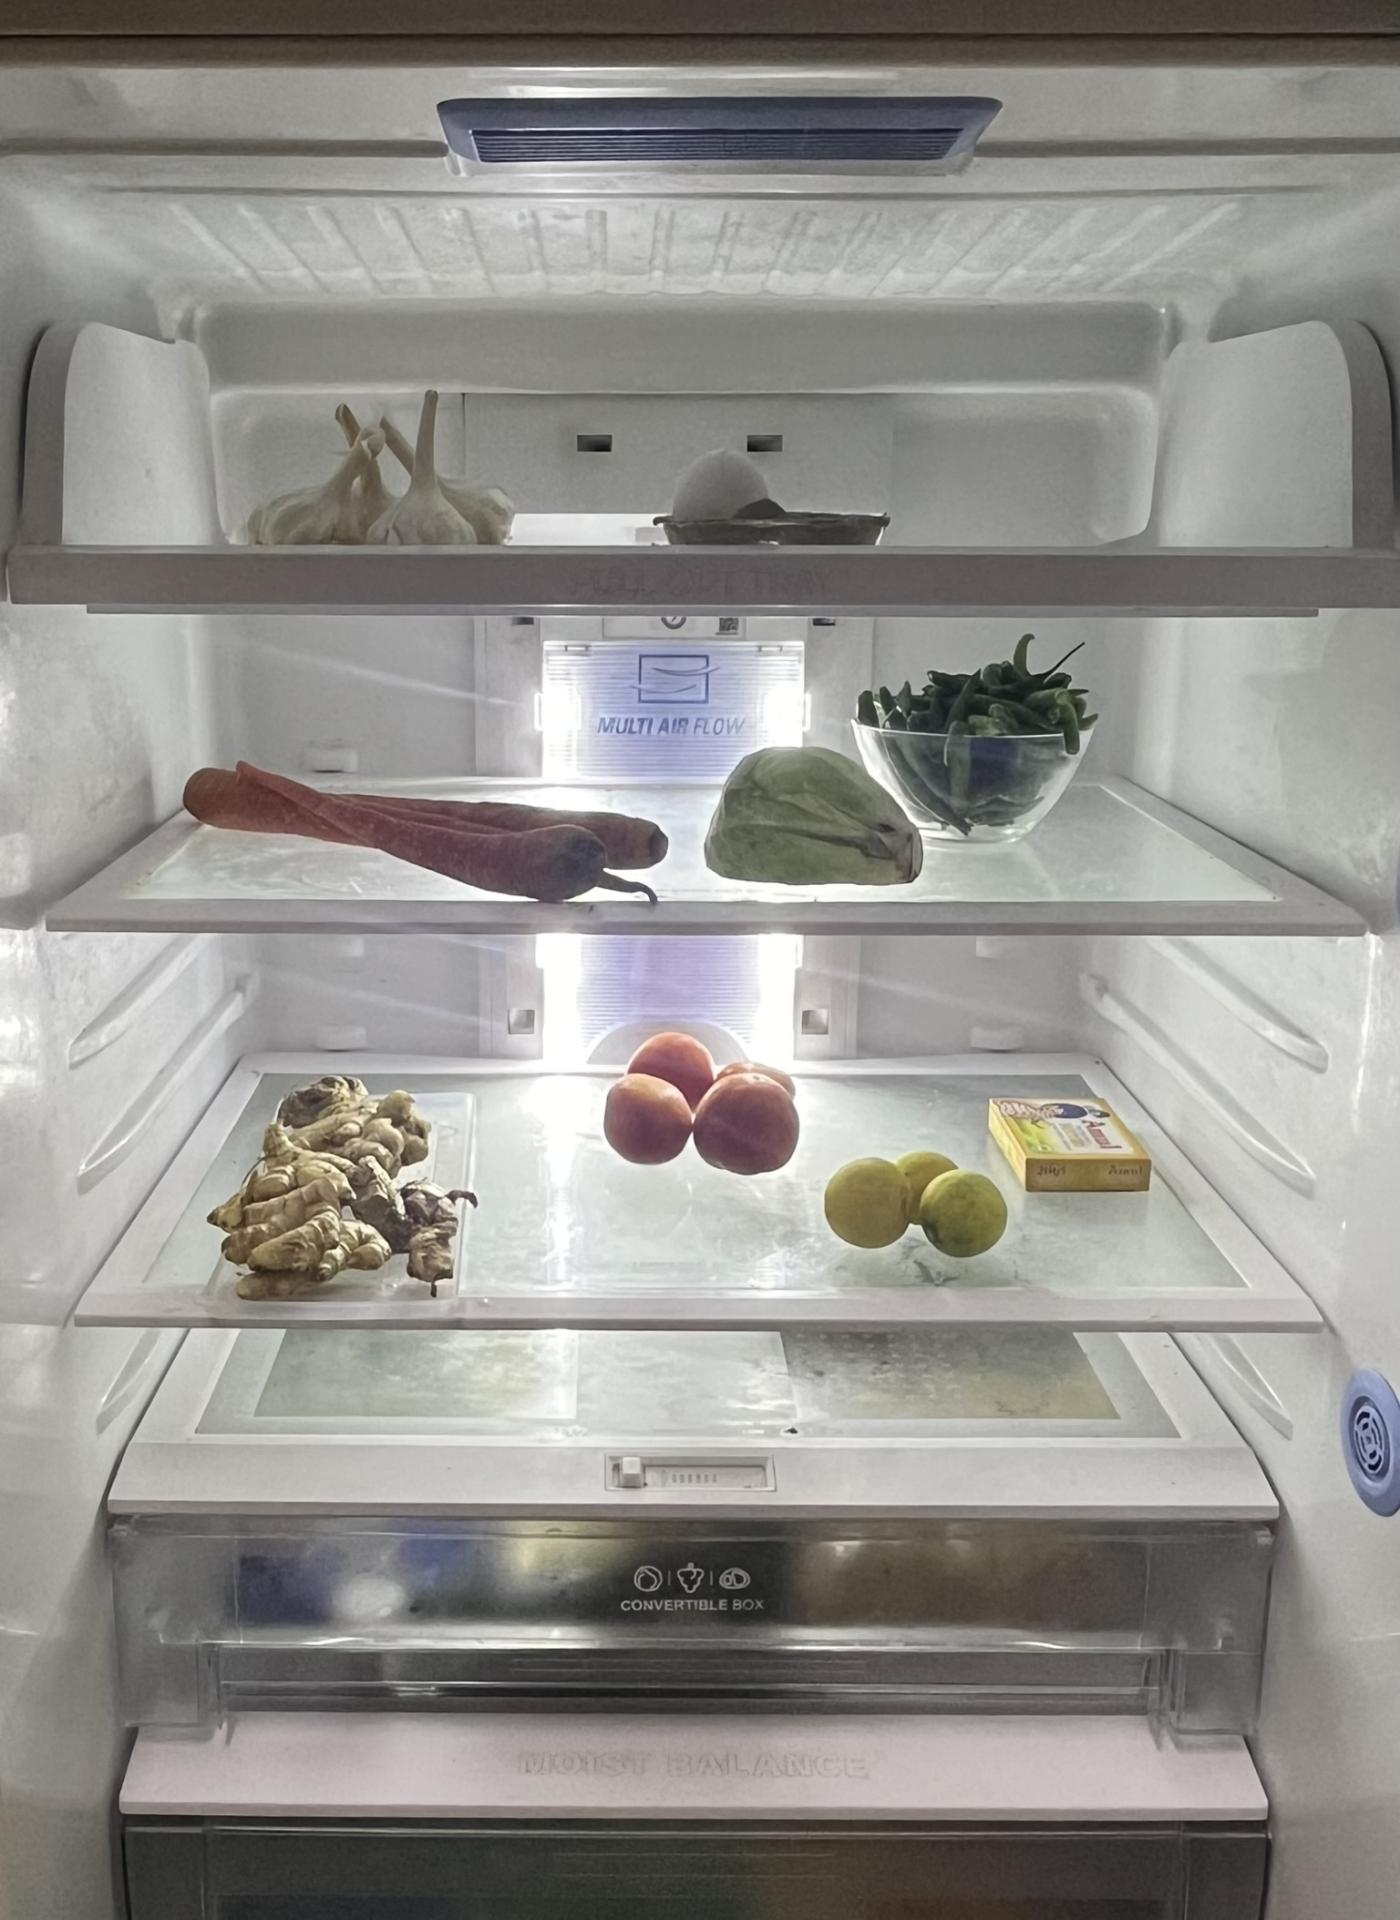butter: (986, 1088, 1158, 1199)
cabbage: (707, 748, 932, 885)
carrots: (170, 771, 663, 903)
chillies: (863, 631, 1103, 853)
egg: (668, 447, 775, 541)
garlic: (253, 382, 513, 549)
ginger: (207, 1073, 473, 1285)
lemon: (819, 1145, 1014, 1258)
tomato: (590, 1023, 805, 1169)
